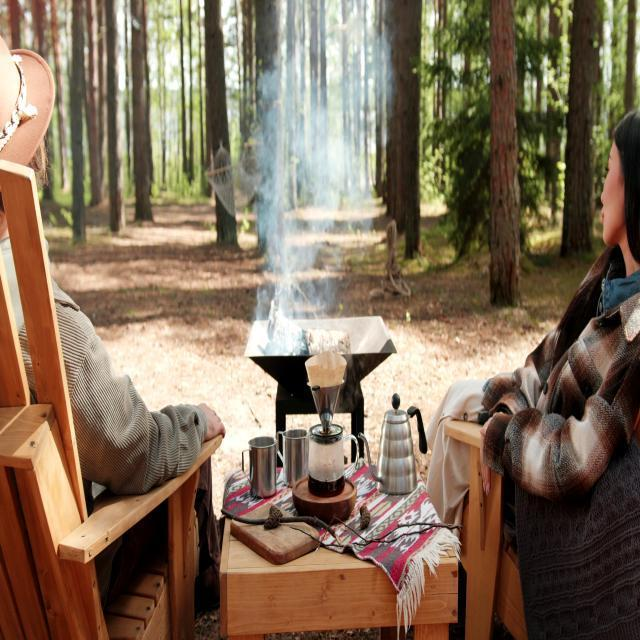Smoke: (225, 2, 396, 358)
